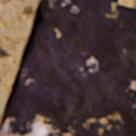brick: (2, 0, 135, 135)
crack: (0, 1, 42, 135)
